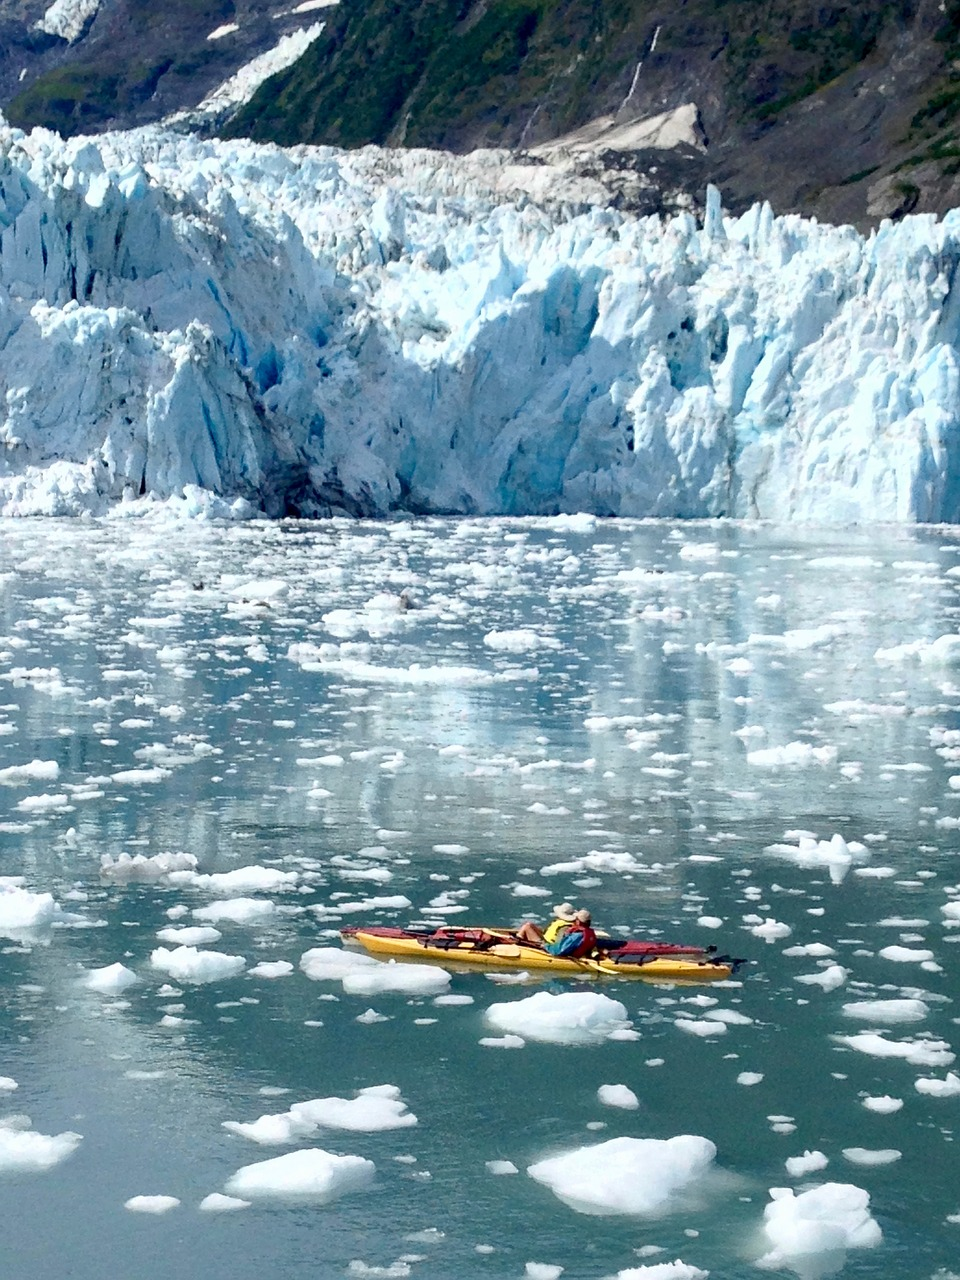kayak: (348, 926, 746, 981)
